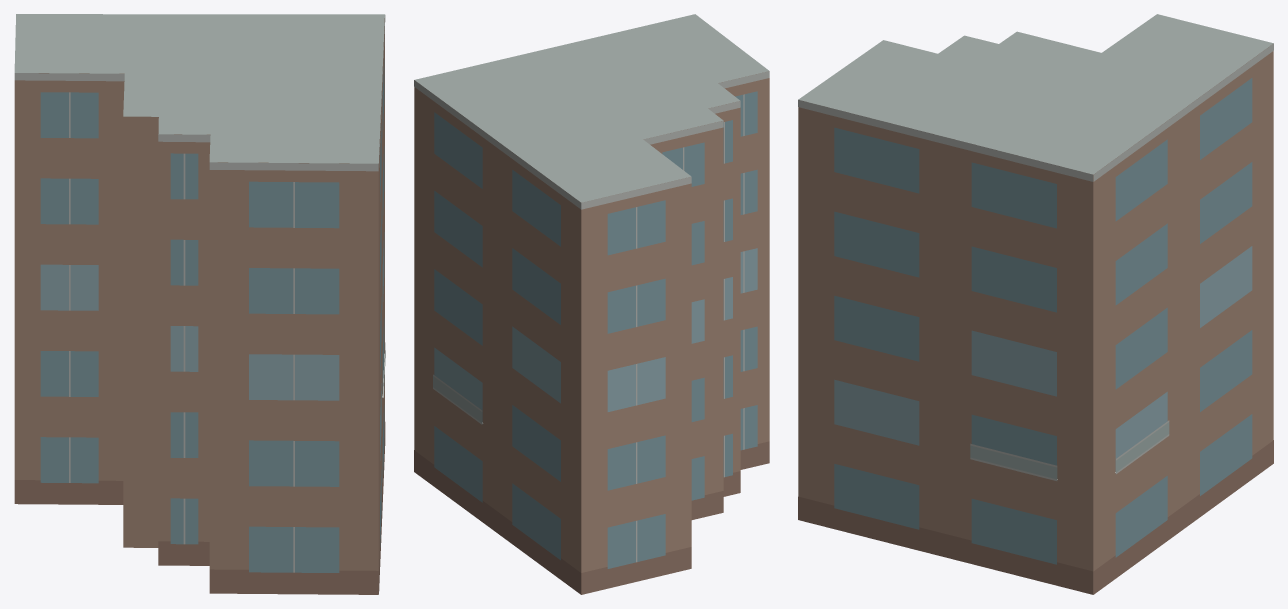
The model's file is survey-upis-32778584.glb.
3 views of the same model, side by side, from view 1: azimuth 30°, elevation 25°; view 2: azimuth 150°, elevation 25°; view 3: azimuth 270°, elevation 25° (orthographic). The views are drawn at different scales.
Visible parts, largest first — view 1: survey-upis-32778584.tmp; view 2: survey-upis-32778584.tmp; view 3: survey-upis-32778584.tmp.
Boxes of the visible parts, box(x1,y1,x2,y2) form: survey-upis-32778584.tmp: box(14, 14, 385, 594); survey-upis-32778584.tmp: box(414, 14, 769, 594); survey-upis-32778584.tmp: box(798, 14, 1273, 594).
Bounding box in the file's own units: 11.4 × 13.9 × 14.27.
